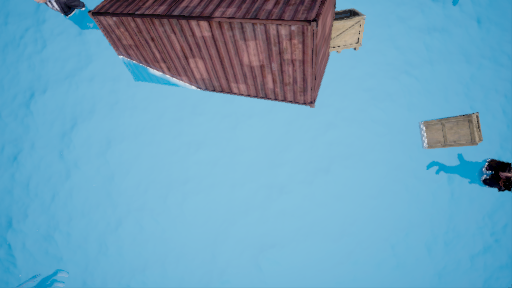person: (433, 148, 512, 204)
